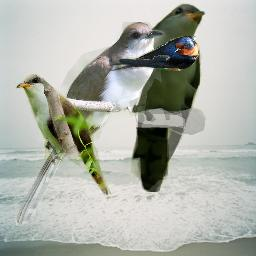Cuckoo: (13, 22, 163, 227), (124, 3, 206, 192), (13, 74, 114, 196)
Swallow: (108, 35, 200, 71)
